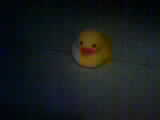duck: (70, 28, 106, 68)
